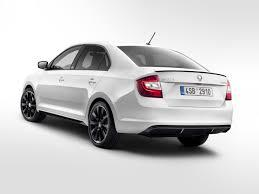opel: (194, 73, 205, 81)
